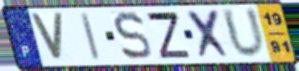I: (79, 11, 102, 62)
S: (111, 10, 154, 62)
U: (219, 6, 268, 61)
V: (28, 12, 65, 63)
X: (185, 9, 235, 60)
Z: (144, 11, 193, 60)
